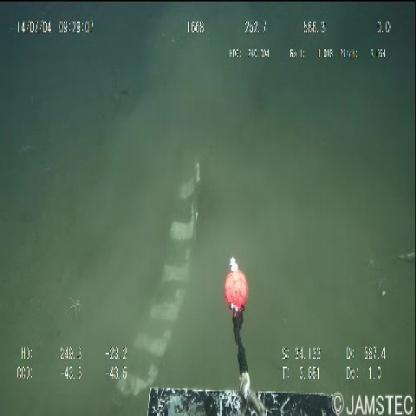Rác: (114, 151, 202, 403)
